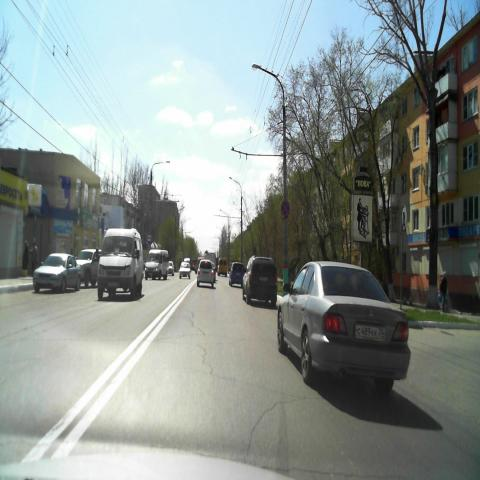3_27: (281, 200, 290, 216)
5_16: (147, 233, 152, 244)
